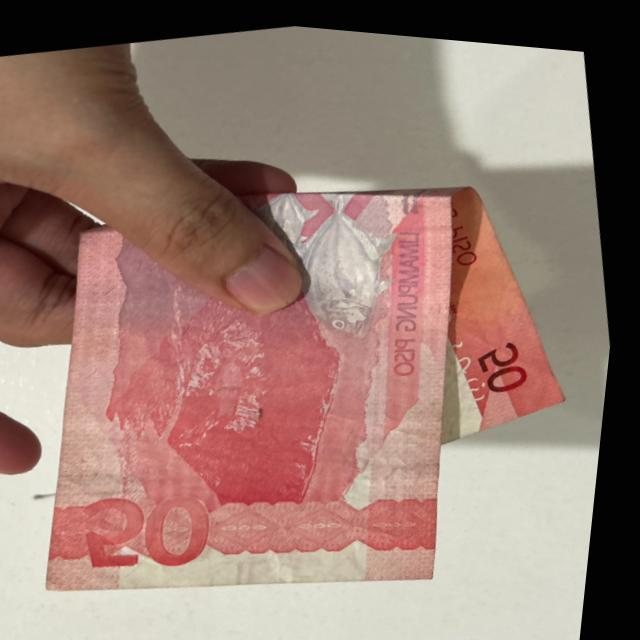see_through_mark: (436, 323, 511, 412)
value: (71, 463, 255, 587)
